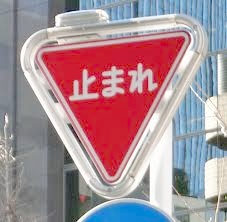Regulatory_sign_triangle: (29, 36, 194, 189)
